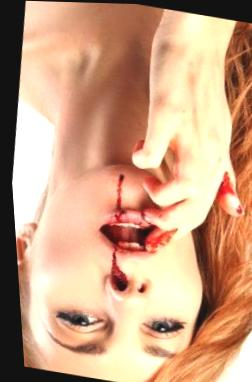Fire: (215, 170, 242, 214), (142, 227, 175, 251), (108, 249, 124, 290), (112, 173, 122, 222)
